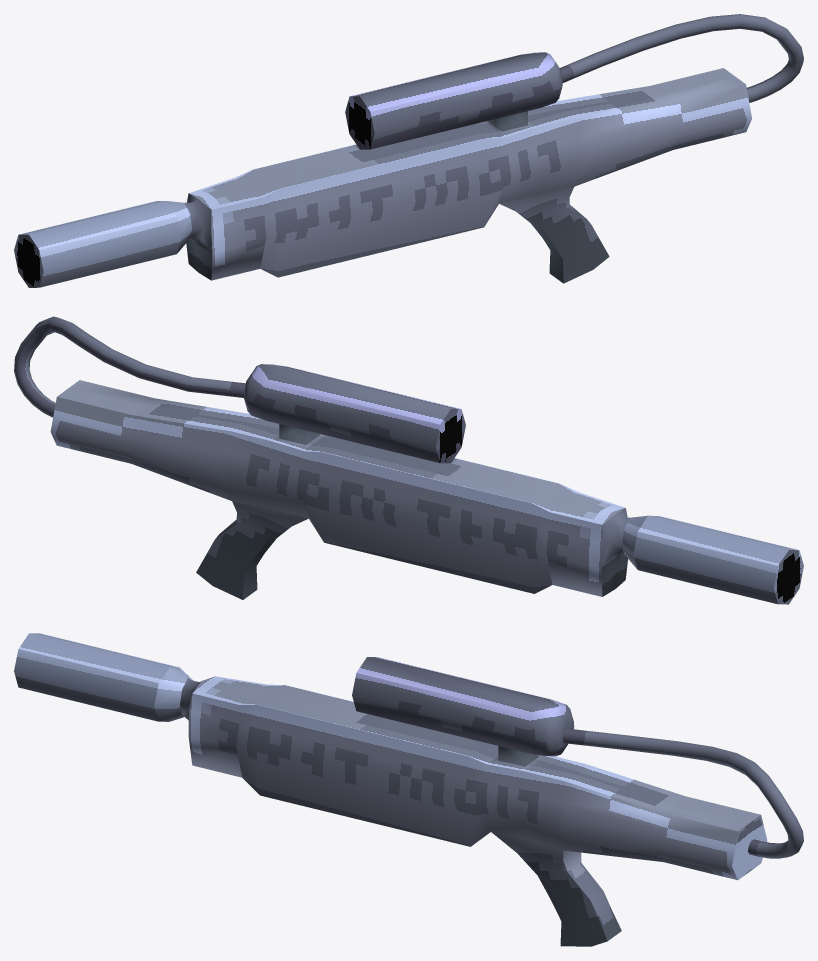
The model's file is FlameThrower.fbx.
The picture shows the model from 3 angles, top to bottom: view 1: azimuth 30°, elevation 25°; view 2: azimuth 150°, elevation 25°; view 3: azimuth 330°, elevation 25°; orthographic projection. The views are drawn at different scales.
Parts seen in each view (by area): view 1: Cube; view 2: Cube; view 3: Cube.
Boxes of the visible parts, x1,y1,x2,y2 form: Cube: [14, 14, 803, 287]; Cube: [14, 316, 803, 604]; Cube: [14, 633, 803, 946].
Size of the model in its own units: 687 by 197 by 55.38.
Materials: 1 (1 with a texture image).
